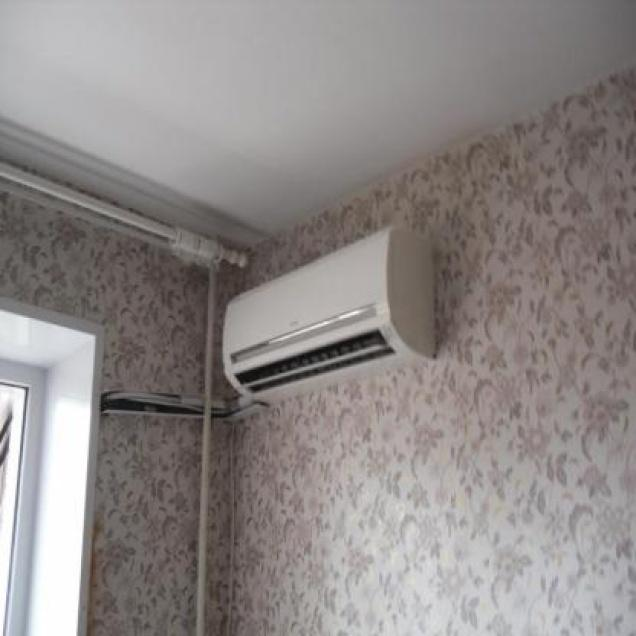AC: (220, 225, 435, 402)
